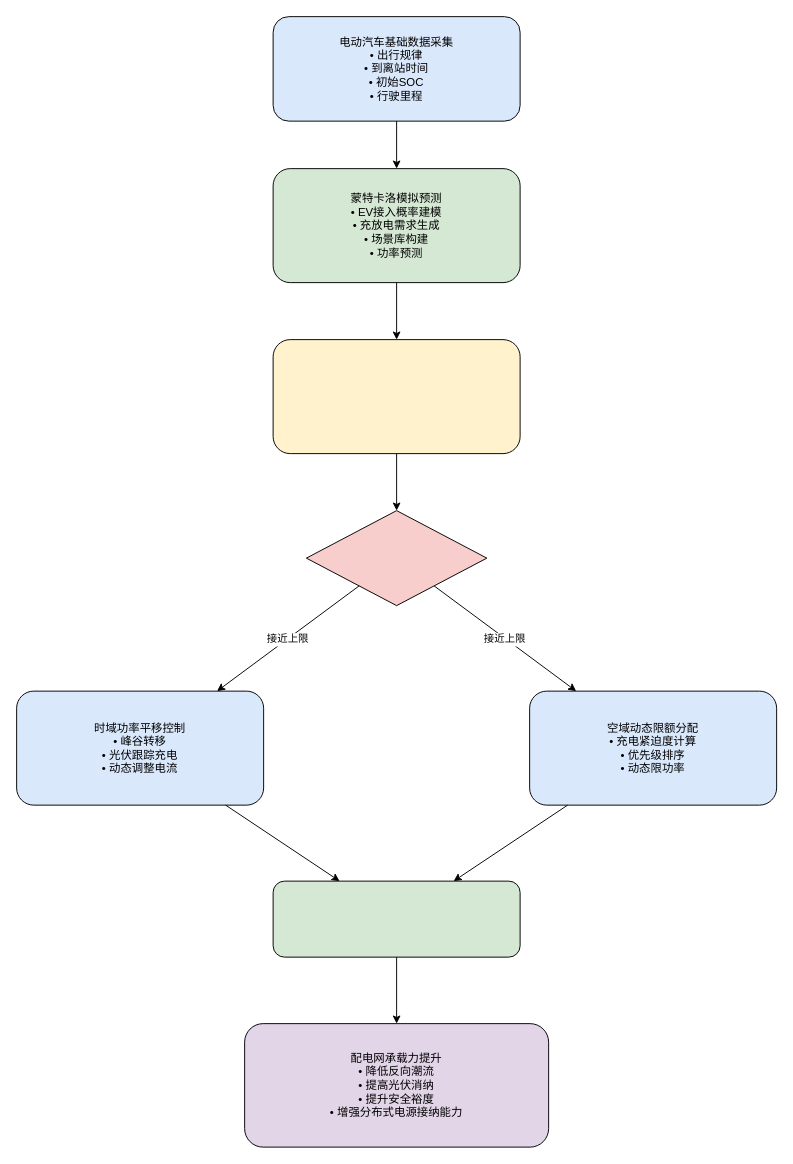
This 793x1164 diagram has some shape labels left out. The shapes that lost their labels are listed below. From the top down, each one's box as (x1, y1, x2, y2) in pixels, then its label:
(272, 339, 520, 454): EMS综合状态评估 • EV预测负荷 • 光伏出力预测 • 变压器负载率 • 线路负载率
(305, 510, 487, 606): 承载力安全裕度判断
(272, 880, 520, 957): 充电功率优化输出
